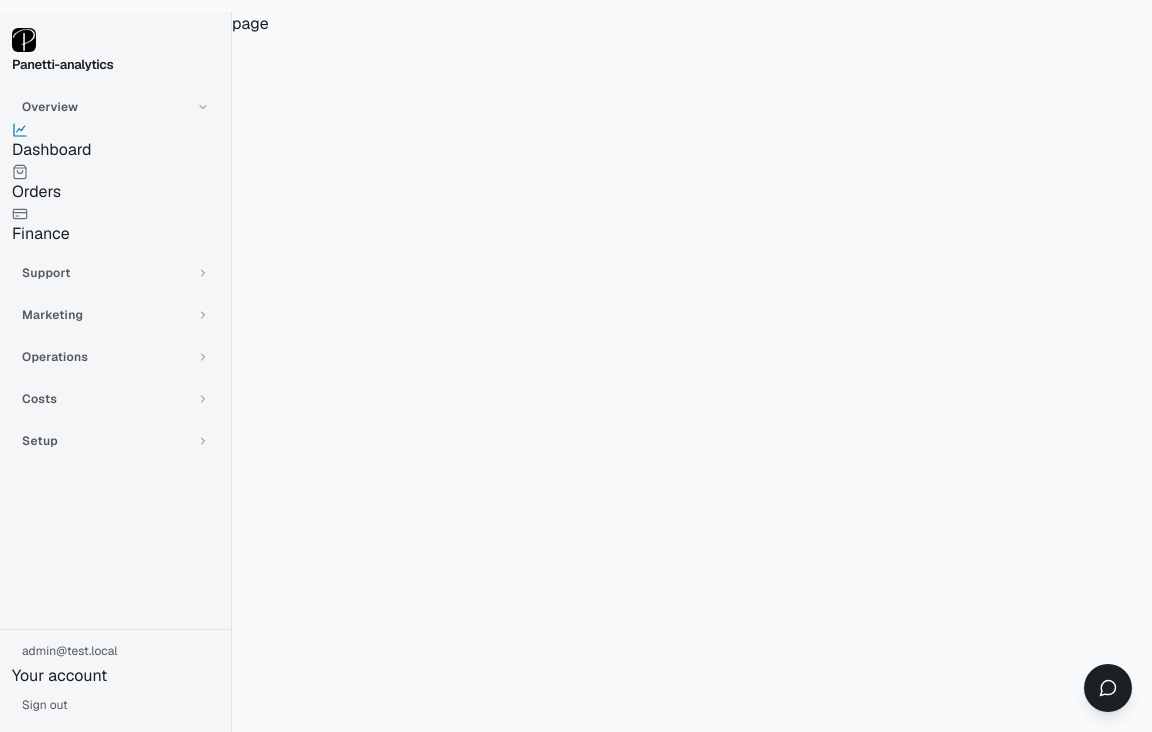
Test: AppShell sign-out › does NOT navigate when the logout fails
Click the button "Sign out" at (116, 705), box [12,690,219,720]
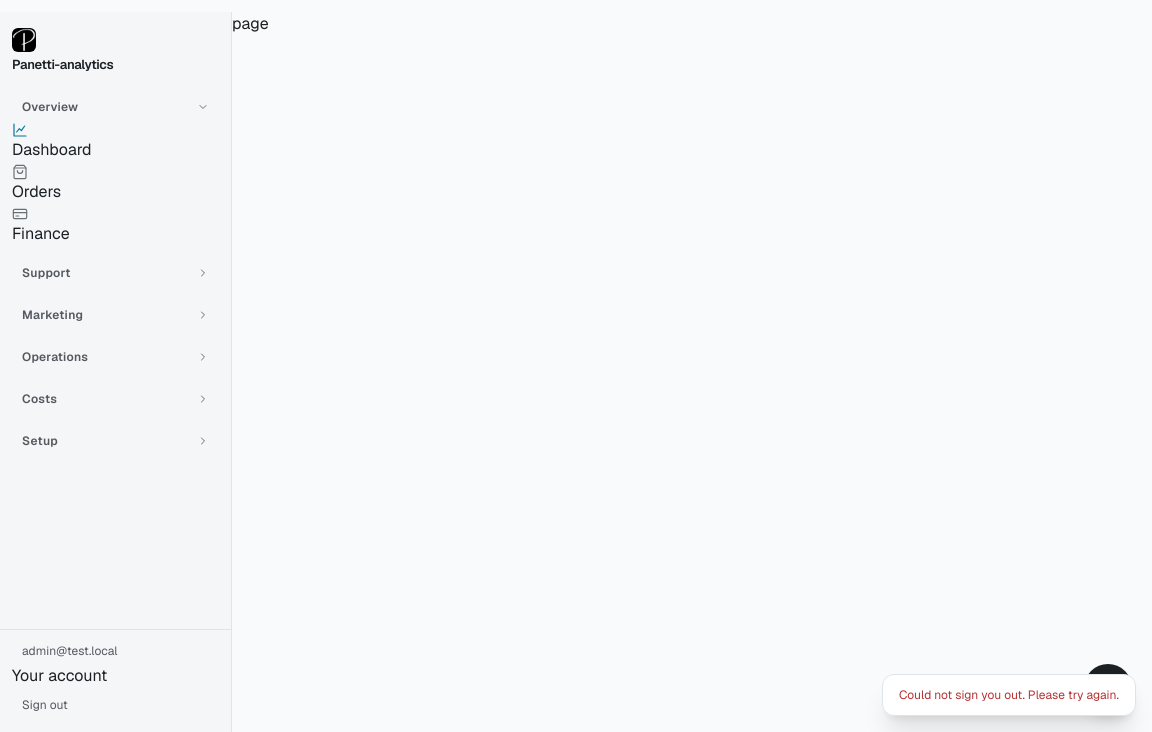
Check: the button "Could not sign you out. Please try again." is shown, box [882,674,1136,716]
